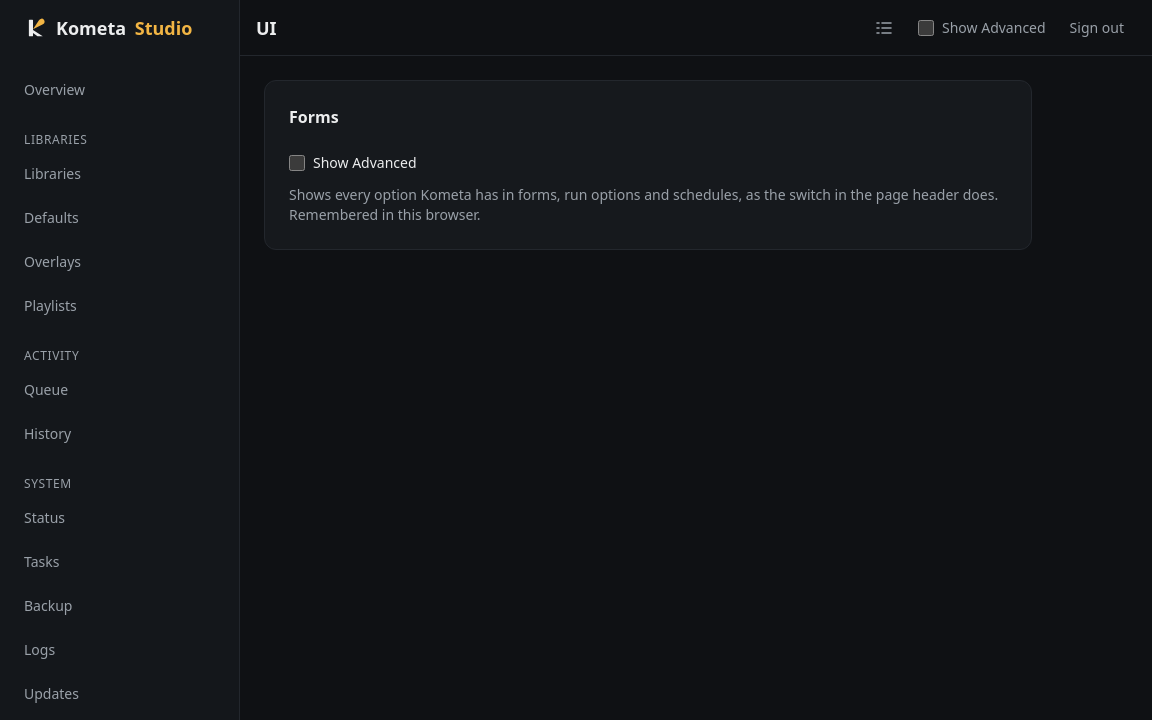
Test: Settings → Kometa and UI › switches Show Advanced, the same switch as the header's
Click the 2nd checkbox labelled "Show Advanced".
click(297, 163)  # box [289,155,305,171]
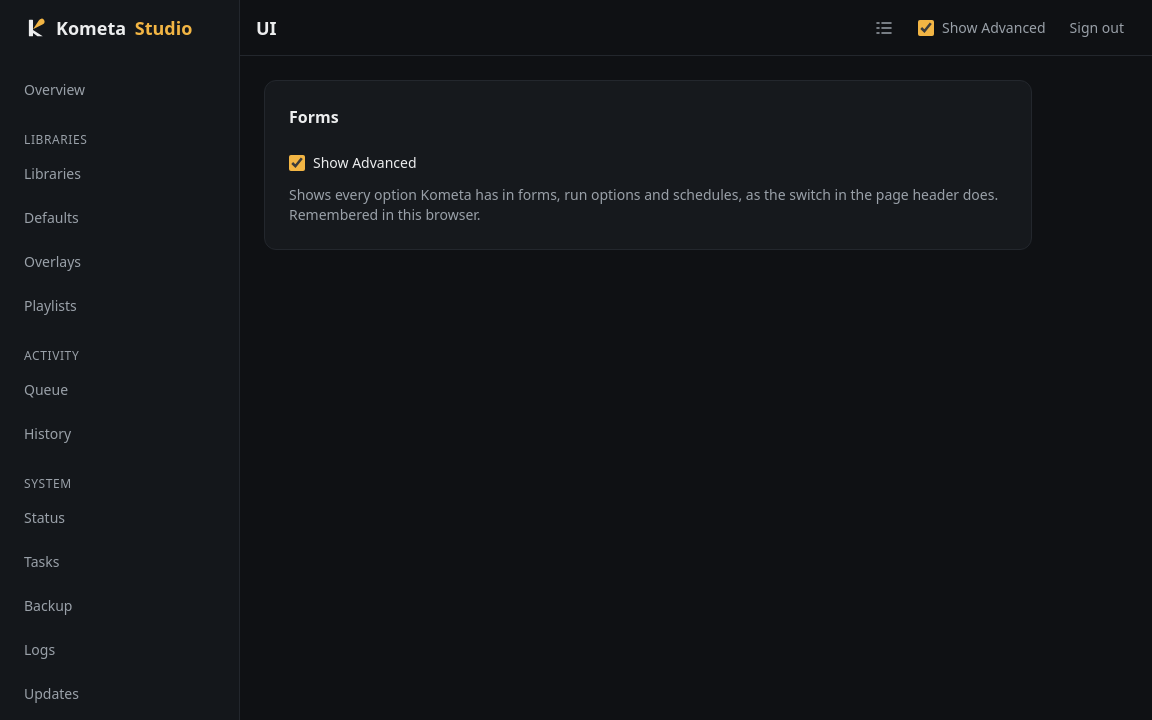
Now the checkbox labelled "Show Advanced" in the row of "UI" is checked, box [918,20,934,36]
